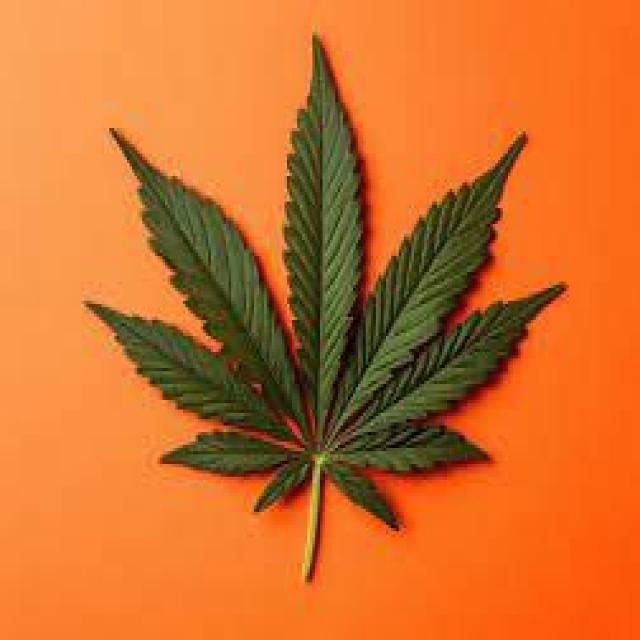cannabis: (81, 32, 566, 586)
